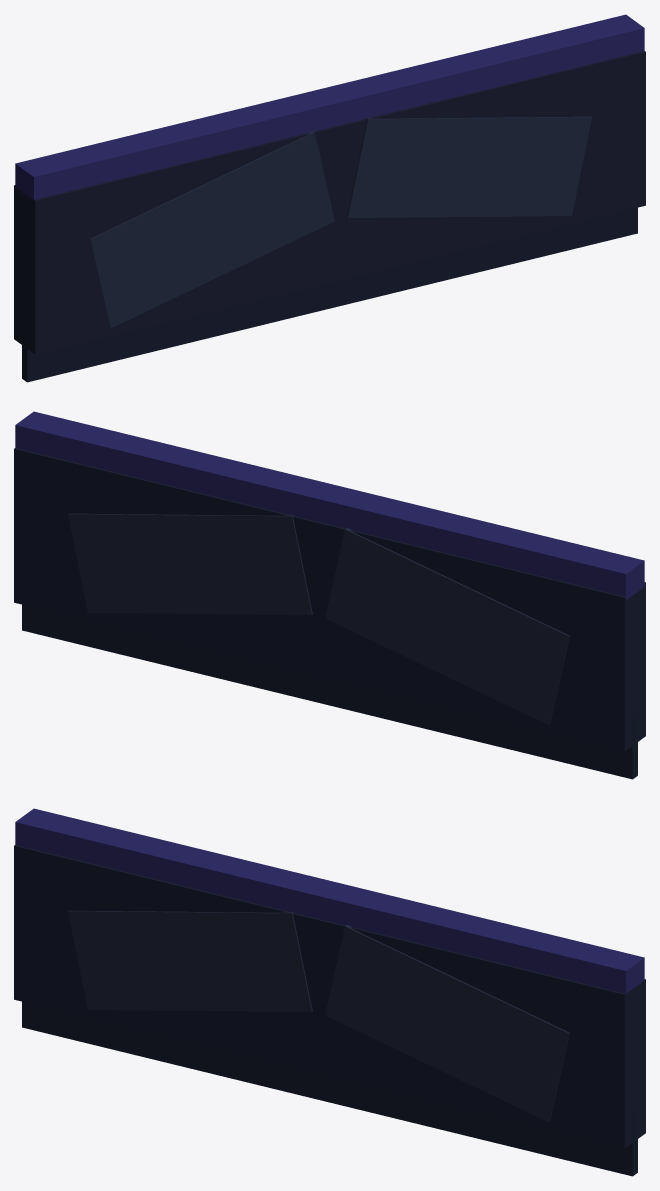
Rendered from ram-rgb.glb.
3 renders of one model, top to bottom at view 1: azimuth 30°, elevation 25°; view 2: azimuth 150°, elevation 25°; view 3: azimuth 330°, elevation 25°, orthographic.
Parts seen in each view (by area): view 1: heat_spreader, bevel_accents, rgb_diffuser, pcb; view 2: heat_spreader, bevel_accents, rgb_diffuser, pcb; view 3: heat_spreader, bevel_accents, rgb_diffuser, pcb.
Boxes of the visible parts, x1,y1,x2,y2 form: heat_spreader: (14, 51, 645, 354); bevel_accents: (90, 116, 591, 328); rgb_diffuser: (15, 14, 644, 201); pcb: (22, 207, 637, 382); heat_spreader: (14, 448, 645, 751); bevel_accents: (68, 513, 569, 725); rgb_diffuser: (15, 411, 644, 600); pcb: (22, 604, 637, 779); heat_spreader: (14, 845, 645, 1148); bevel_accents: (68, 910, 569, 1122); rgb_diffuser: (15, 808, 644, 996); pcb: (22, 1001, 637, 1176).
Size of the model in its own units: 133 by 43.75 by 8.6.
